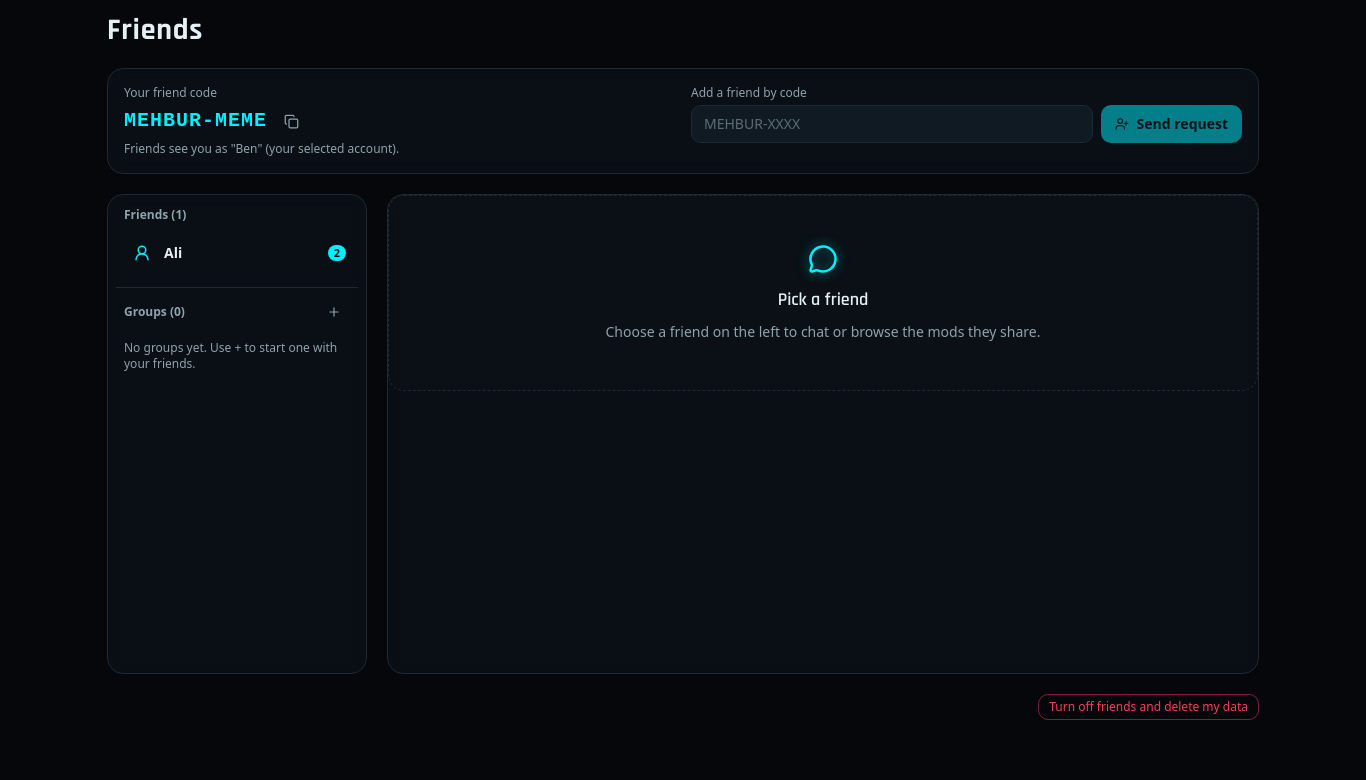
Test: FriendsPage › opens a chat and sends with Enter
This screenshot has width=1366, height=780.
Click the button "Ali 2".
click(237, 253)  # box [116,231,358,275]
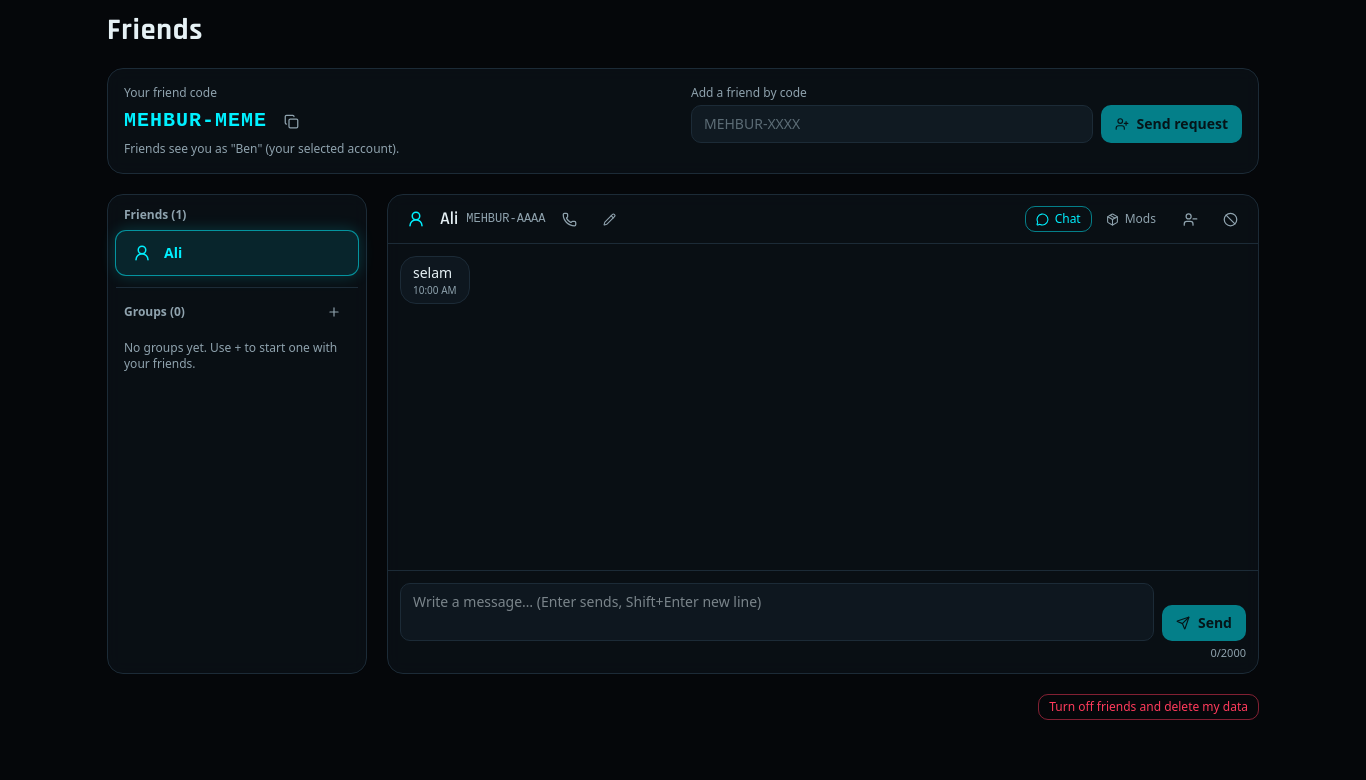
Result: the text "selam" is shown at [413,263,457,283]
Type "naber" into the text box labelled "Write a message… (Enter sends, Shift+Enter new line)".
click(777, 612); type("naber")  # box [400,582,1154,640]
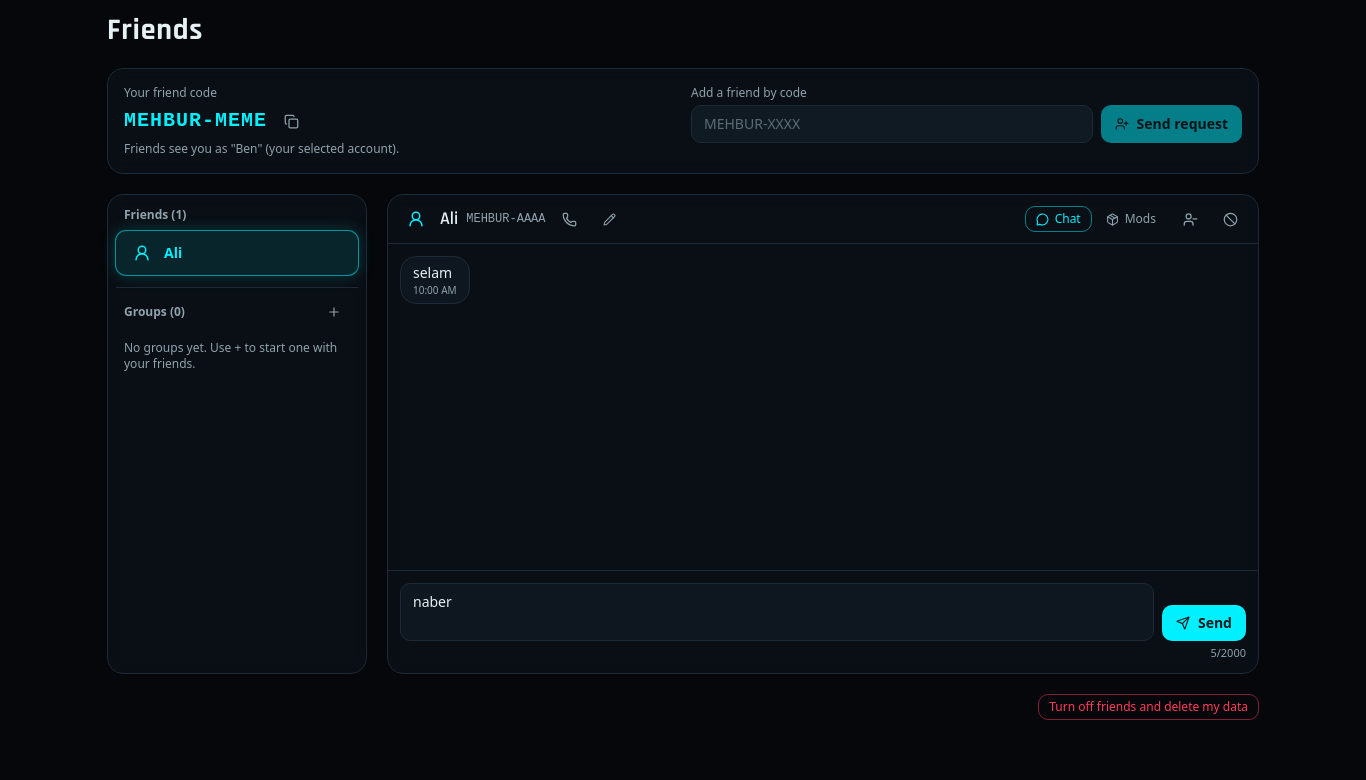
Press Enter in the text box named "Write a message", box [400,582,1154,640]
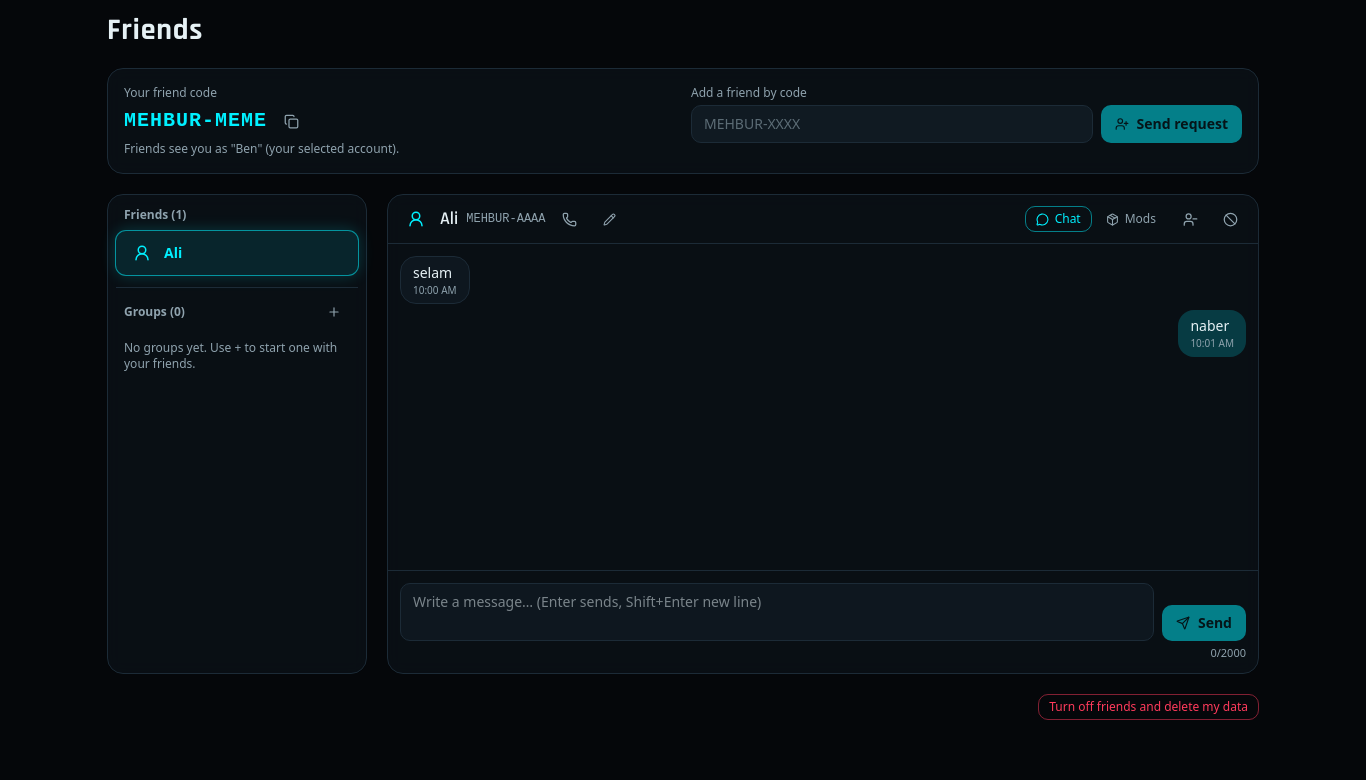
Result: the text "naber" is shown at [1190,316,1234,336]
Result: the text box labelled "Write a message… (Enter sends, Shift+Enter new line)" is empty at [400,582,1154,640]
